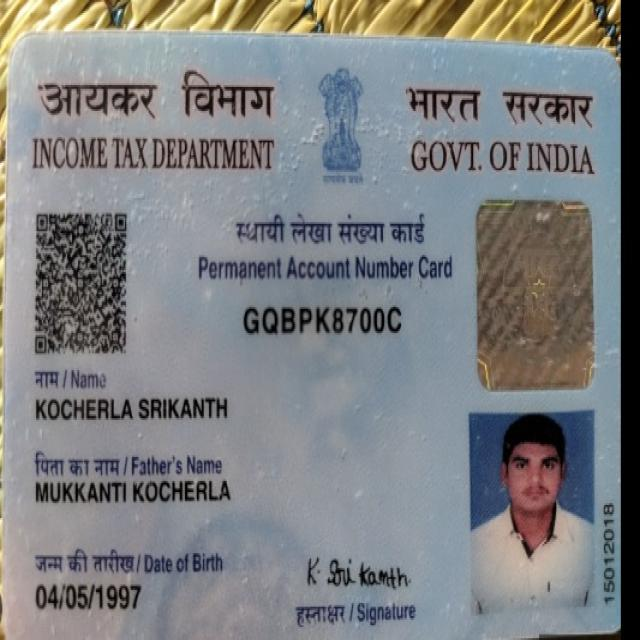pan_card: (5, 44, 620, 636)
